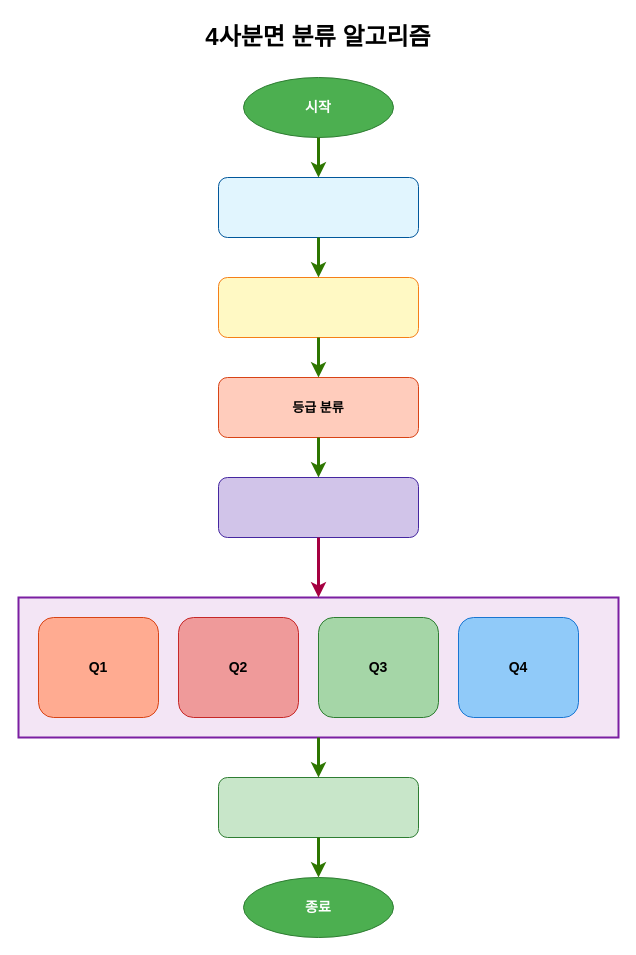
The diagram is 636 pixels wide and 955 high, and some of its shapes have lost their labels. Each missing label, with the centre of its shape:
"4사분면 할당" goes at (318,507).
"분류 결과 출력" goes at (318,807).
"중앙값 계산" goes at (318,307).
"통합 데이터 입력" goes at (318,207).
